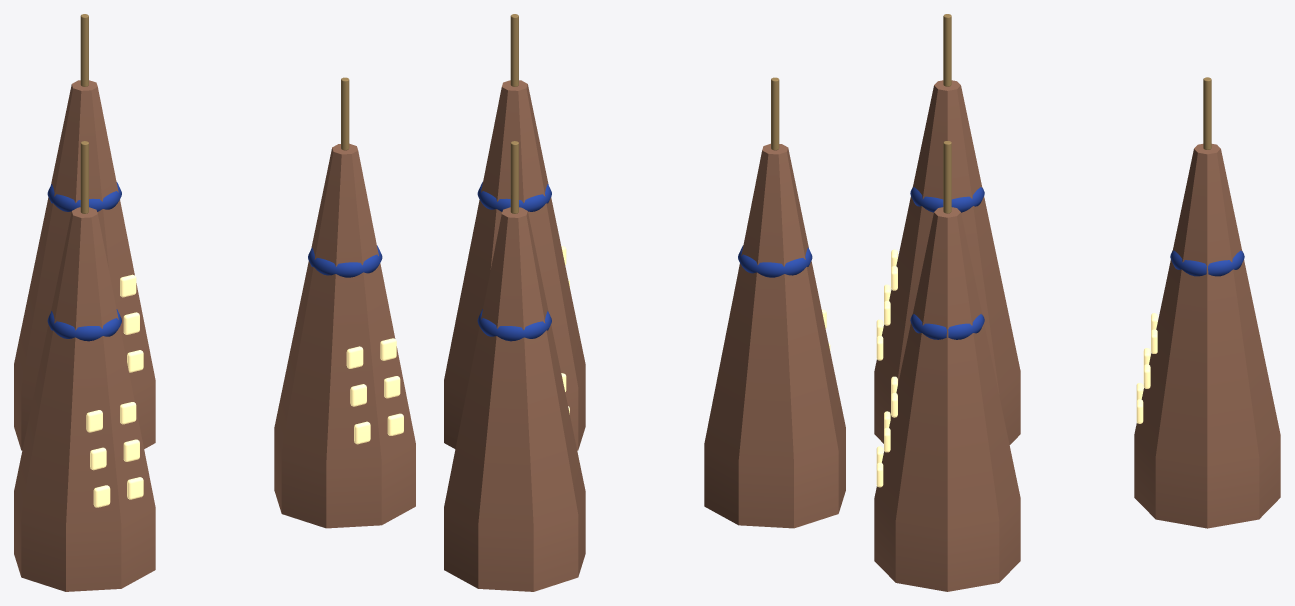
3 views of the same model, side by side, from view 1: azimuth 30°, elevation 25°; view 2: azimuth 150°, elevation 25°; view 3: azimuth 270°, elevation 25° (orthographic).
Parts seen in each view (by area): view 1: Tapered spire.002, Tapered spire.001, Tapered spire, Spire collar.002, Spire collar.001, Spire collar, Aerial stem.002, Aerial stem, Aerial stem.001; view 2: Tapered spire.001, Tapered spire, Tapered spire.002, Spire collar.001, Spire collar, Spire collar.002, Aerial stem.001, Aerial stem, Aerial stem.002; view 3: Tapered spire.002, Tapered spire, Tapered spire.001, Spire collar.002, Spire collar, Spire collar.001, Aerial stem.001, Aerial stem, Aerial stem.002.
Boxes of the visible parts, box(x1,y1,x2,y2) form: Tapered spire.002: box(274, 143, 415, 528); Tapered spire.001: box(14, 207, 155, 591); Tapered spire: box(14, 80, 155, 450); Spire collar.002: box(308, 245, 382, 277); Spire collar.001: box(47, 309, 121, 341); Spire collar: box(47, 182, 121, 211); Aerial stem.002: box(341, 77, 349, 150); Aerial stem: box(80, 14, 88, 86); Aerial stem.001: box(80, 141, 88, 213); Tapered spire.001: box(704, 143, 845, 528); Tapered spire: box(444, 207, 585, 591); Tapered spire.002: box(444, 80, 585, 450); Spire collar.001: box(738, 245, 812, 277); Spire collar: box(477, 309, 551, 341); Spire collar.002: box(477, 182, 551, 211); Aerial stem.001: box(771, 77, 779, 150); Aerial stem: box(510, 141, 518, 213); Aerial stem.002: box(510, 14, 518, 86); Tapered spire.002: box(874, 207, 1020, 591); Tapered spire: box(1134, 144, 1280, 528); Tapered spire.001: box(874, 80, 1020, 444); Spire collar.002: box(910, 314, 984, 339); Spire collar: box(1170, 250, 1244, 276); Spire collar.001: box(910, 187, 984, 212); Aerial stem.001: box(943, 14, 951, 86); Aerial stem: box(1203, 77, 1211, 149); Aerial stem.002: box(943, 141, 951, 213).
Size of the model in its own units: 2.32 by 2.4 by 2.11.
